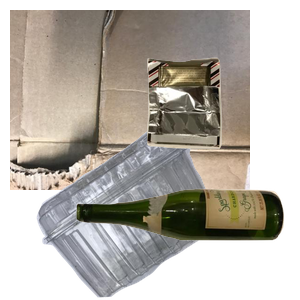cardboard: (10, 10, 250, 190)
glass: (74, 186, 300, 300)
plastic: (34, 130, 246, 300)
trash: (144, 55, 300, 197)
